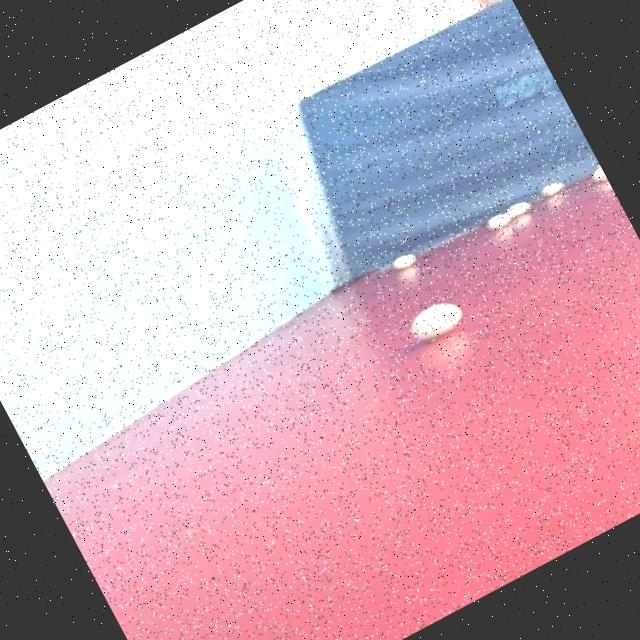ping-pong-ball: (394, 280, 479, 352), (379, 235, 432, 283), (474, 198, 523, 242), (528, 168, 574, 206), (506, 193, 537, 226), (582, 165, 612, 196), (592, 159, 604, 174)
